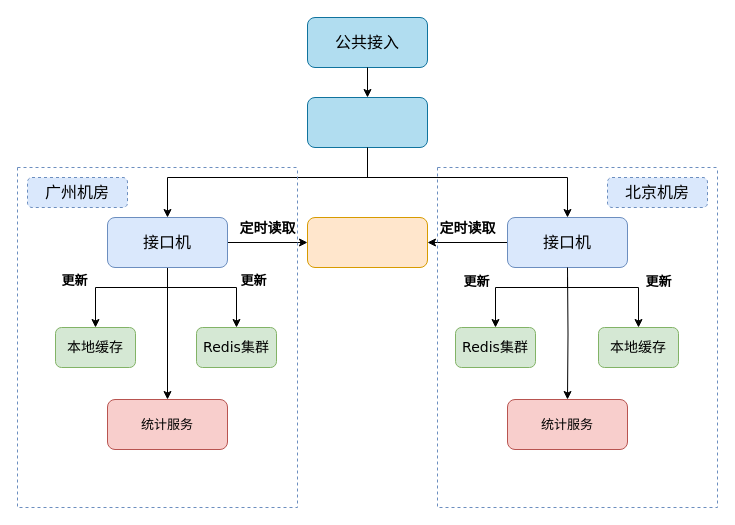
Some shapes in this 735 by 525 pixel diagram are drawn without their labels. Here are the shapes that lost their labels. From the top down, the box of each, then its label:
(306, 96, 428, 148): 天幕
(306, 216, 428, 268): 物料库
